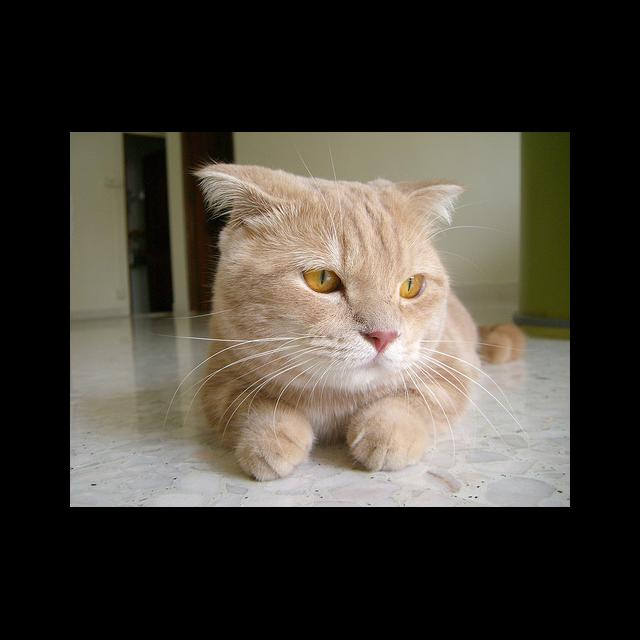animals: (195, 172, 465, 350)
